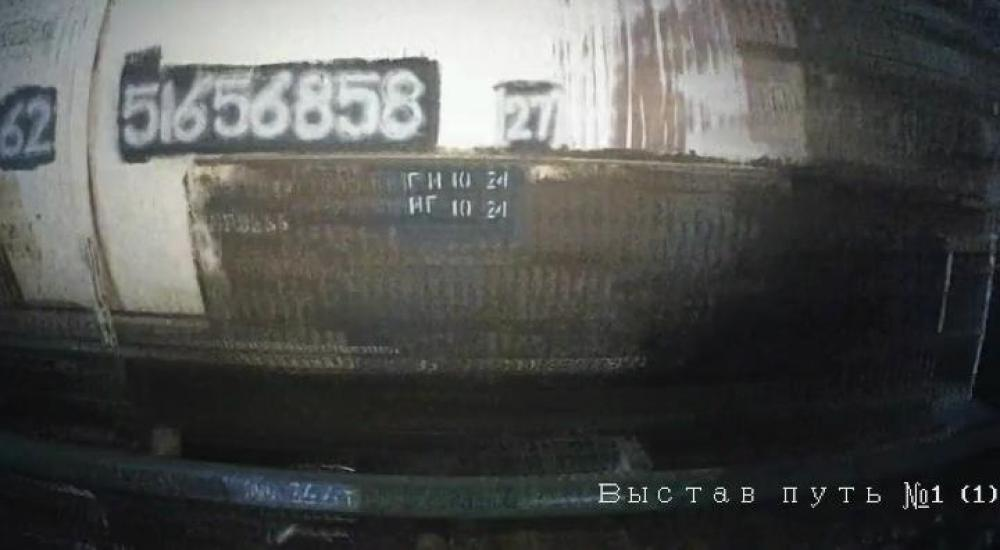Wagon-number: (114, 67, 428, 147)
